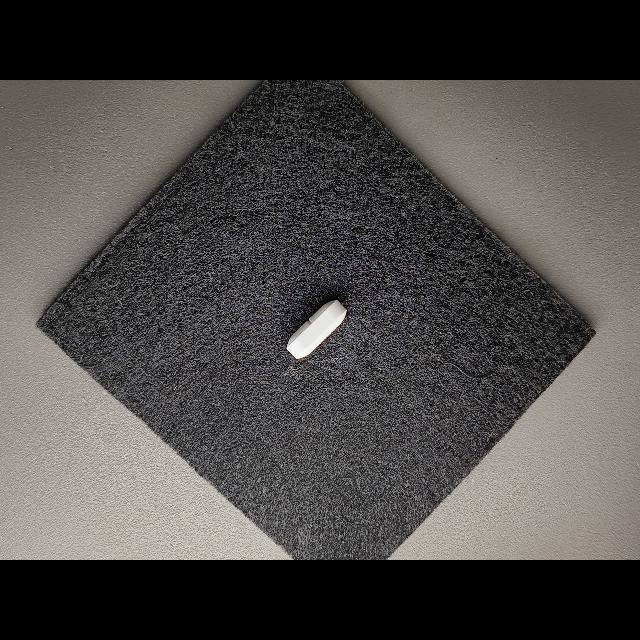Intact Pill: (286, 300, 347, 359)
